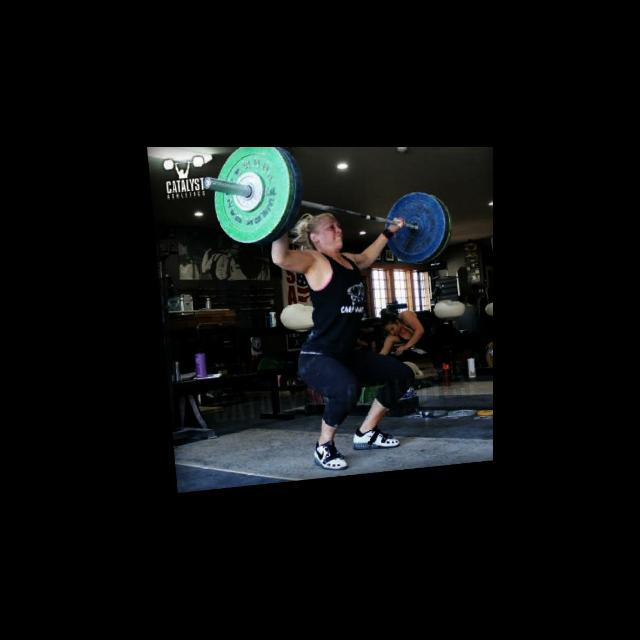barbell: (198, 147, 295, 253)
